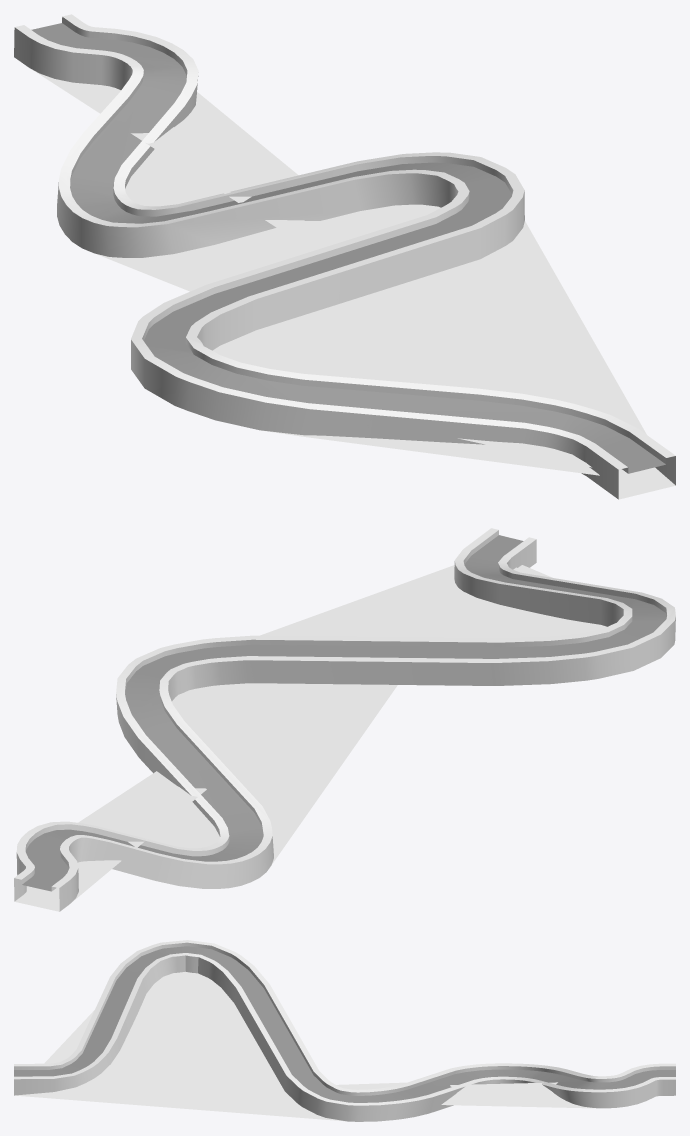
The model's file is rd_snakeh.fbx.
The picture shows the model from 3 angles, top to bottom: view 1: azimuth 30°, elevation 25°; view 2: azimuth 150°, elevation 25°; view 3: azimuth 270°, elevation 25°; orthographic projection. The views are drawn at different scales.
Visible parts, largest first — view 1: Cube.002; view 2: Cube.002; view 3: Cube.002.
Boxes of the visible parts, bbox=[...] form: Cube.002: bbox=[14, 14, 675, 499]; Cube.002: bbox=[14, 528, 675, 911]; Cube.002: bbox=[14, 940, 675, 1121].
Size of the model in its own units: 2202 by 610 by 4452.
